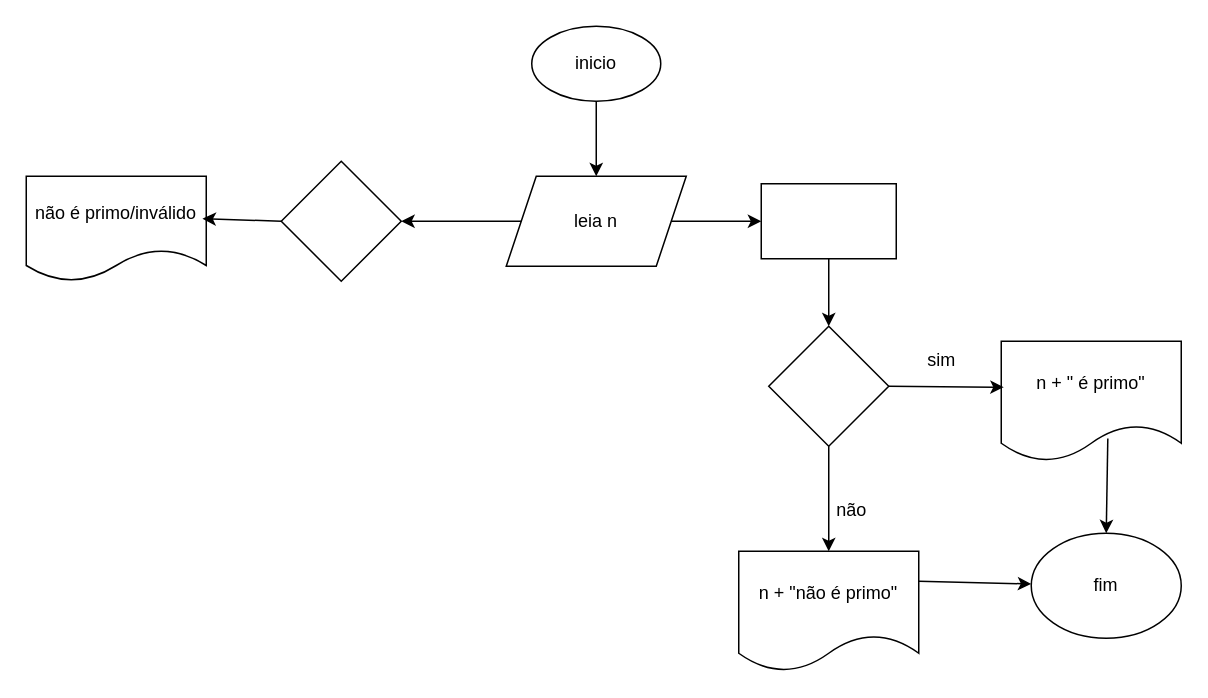
Some shapes in this 1208 by 698 pixel diagram are drawn without their labels. The shapes that lost their labels are listed below. From the top down, each one's centre as x and y in pixels, then its label:
At [340,220]: "if n <= 1".
At [828,220]: "div = 0".
At [828,385]: "if div <= 2".
